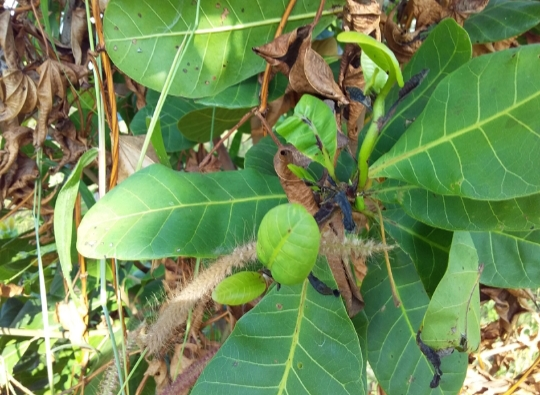Dessèchement des bourgeons: (300, 177, 364, 234)
